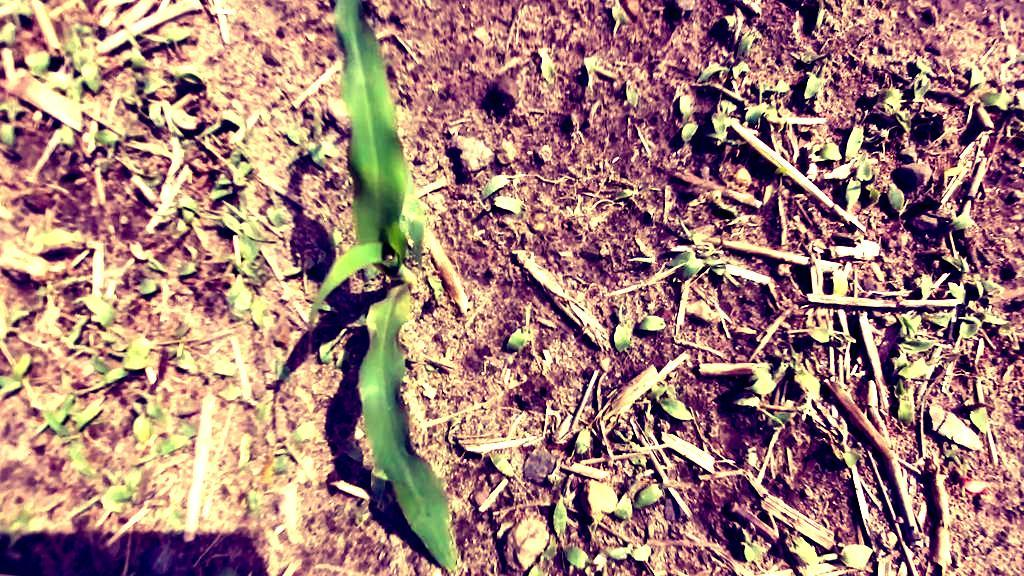BroWeed: (255, 181, 309, 253), (774, 343, 831, 407), (127, 421, 197, 473), (880, 309, 941, 367), (45, 14, 100, 77), (869, 78, 927, 135), (26, 391, 81, 448), (895, 339, 962, 384), (70, 286, 127, 336), (610, 462, 655, 525), (837, 150, 880, 215), (628, 472, 699, 511), (210, 99, 262, 152), (771, 523, 824, 574), (125, 374, 173, 430), (643, 381, 698, 429), (744, 355, 794, 405), (302, 220, 352, 269), (64, 483, 132, 519), (837, 106, 876, 167), (668, 246, 726, 287), (281, 239, 329, 288), (816, 537, 879, 574), (110, 142, 168, 182), (59, 307, 101, 362), (71, 362, 133, 399), (0, 509, 54, 551), (503, 299, 540, 358), (157, 247, 196, 302), (28, 394, 73, 441), (62, 431, 101, 484), (290, 450, 336, 494), (473, 166, 514, 213), (0, 90, 41, 136), (192, 200, 239, 240), (310, 320, 349, 368), (944, 451, 984, 497), (554, 526, 592, 574), (690, 49, 740, 85), (79, 330, 115, 378), (241, 280, 275, 330), (286, 142, 340, 173), (139, 22, 198, 50), (125, 392, 156, 445), (698, 121, 747, 154), (161, 118, 202, 157), (732, 526, 771, 567), (0, 503, 37, 546), (727, 389, 796, 412), (973, 305, 1018, 340), (949, 302, 987, 343), (163, 60, 208, 94), (65, 396, 105, 434), (45, 361, 82, 402), (76, 56, 112, 98), (875, 174, 911, 216), (610, 301, 638, 355), (34, 64, 78, 98), (905, 56, 941, 97), (230, 135, 262, 181), (729, 22, 764, 64), (138, 87, 171, 131), (60, 73, 96, 113), (704, 91, 734, 139), (39, 422, 81, 456), (651, 246, 697, 277), (757, 91, 789, 135), (85, 123, 123, 160), (158, 499, 196, 536), (19, 34, 52, 76), (204, 245, 250, 275), (590, 57, 628, 93), (206, 198, 248, 230), (122, 88, 159, 124), (154, 214, 192, 249), (961, 76, 999, 111), (805, 324, 858, 349), (149, 283, 189, 316), (963, 400, 993, 444), (274, 115, 314, 148), (167, 340, 204, 375), (284, 418, 322, 452), (162, 59, 204, 89), (7, 349, 40, 387), (119, 233, 158, 265), (164, 387, 203, 419), (487, 445, 519, 484), (891, 377, 915, 429), (238, 240, 264, 288), (120, 347, 163, 376), (535, 530, 562, 576), (705, 187, 745, 218), (764, 121, 792, 165), (123, 25, 149, 72), (485, 189, 527, 218), (129, 271, 169, 301), (941, 210, 981, 240), (746, 81, 771, 129), (723, 4, 749, 50), (347, 497, 381, 532), (556, 471, 587, 509), (981, 85, 1019, 116), (194, 110, 229, 143), (0, 186, 36, 218), (739, 96, 771, 132), (303, 289, 340, 320), (803, 55, 828, 100), (95, 323, 129, 356), (169, 102, 204, 134), (674, 212, 706, 247), (221, 272, 252, 307), (551, 490, 569, 550), (209, 468, 252, 493), (626, 237, 659, 269), (1, 302, 31, 337), (861, 120, 896, 150), (836, 447, 872, 476), (186, 350, 218, 382), (908, 72, 939, 105), (727, 163, 758, 196), (0, 0, 34, 30), (976, 268, 1006, 302), (123, 463, 147, 505), (106, 338, 159, 357), (534, 45, 559, 85), (337, 436, 370, 466), (711, 210, 765, 228), (155, 196, 201, 217), (935, 159, 967, 189), (801, 127, 829, 161), (674, 117, 702, 151), (426, 269, 451, 307), (108, 323, 145, 348), (789, 43, 826, 68), (683, 189, 716, 217), (601, 543, 652, 561), (165, 412, 200, 438), (133, 73, 174, 95), (862, 174, 884, 215), (212, 348, 241, 379), (234, 432, 256, 472), (174, 254, 209, 279), (606, 167, 637, 195), (823, 432, 848, 466), (32, 228, 85, 244), (612, 426, 641, 455), (79, 229, 109, 257), (546, 450, 566, 492), (204, 177, 235, 204), (270, 345, 292, 383), (223, 161, 251, 190), (266, 449, 296, 476), (143, 45, 169, 76), (51, 271, 91, 291), (888, 344, 908, 384), (807, 141, 843, 163), (962, 273, 990, 301), (920, 309, 954, 332), (937, 439, 967, 465), (640, 381, 670, 407), (158, 96, 179, 133), (619, 78, 644, 109), (443, 411, 465, 446), (753, 406, 786, 429), (233, 284, 259, 313), (491, 514, 516, 544), (572, 422, 594, 456), (939, 252, 973, 274), (308, 106, 328, 143), (234, 227, 257, 259), (899, 137, 926, 164), (233, 384, 259, 412), (346, 416, 371, 445), (312, 249, 335, 280), (758, 175, 781, 206), (130, 544, 152, 576), (74, 320, 100, 347), (718, 9, 744, 36), (66, 391, 91, 419), (757, 352, 786, 376), (315, 137, 344, 161), (132, 434, 162, 457), (152, 283, 170, 321), (152, 383, 172, 417), (217, 377, 244, 402), (672, 81, 699, 106), (946, 278, 969, 307), (91, 151, 117, 176), (33, 240, 83, 253), (628, 449, 653, 475), (819, 8, 845, 33), (153, 82, 180, 106), (144, 254, 171, 278), (98, 465, 126, 488), (635, 313, 667, 333), (410, 353, 439, 375), (583, 56, 599, 95), (736, 538, 759, 565), (57, 123, 77, 154), (180, 234, 201, 263), (767, 409, 796, 430), (676, 93, 695, 124), (225, 303, 253, 324), (253, 397, 274, 425), (198, 361, 222, 385), (729, 55, 753, 79), (272, 318, 292, 346), (114, 76, 138, 99), (33, 278, 57, 301), (839, 439, 867, 458), (212, 168, 235, 191), (250, 253, 273, 276), (978, 63, 1002, 85), (0, 376, 21, 401), (76, 32, 102, 52), (333, 344, 352, 371), (1, 15, 17, 47), (694, 245, 724, 262), (213, 558, 241, 576), (739, 445, 760, 469), (832, 269, 850, 297), (176, 311, 194, 338), (591, 549, 609, 576), (261, 447, 274, 484), (586, 518, 602, 548), (120, 126, 147, 143), (608, 187, 638, 202), (28, 108, 44, 136), (644, 198, 660, 226), (175, 205, 196, 226), (26, 295, 47, 316), (138, 36, 161, 55), (194, 216, 225, 230), (766, 79, 793, 95), (745, 367, 766, 387), (70, 20, 96, 36), (643, 404, 655, 438), (162, 341, 182, 361), (1, 546, 26, 562), (1002, 120, 1022, 140), (661, 378, 678, 401), (246, 486, 259, 516), (964, 479, 990, 494), (604, 556, 623, 576), (207, 133, 228, 151), (226, 149, 244, 169), (213, 125, 234, 142), (234, 496, 250, 518), (573, 195, 588, 218), (182, 292, 197, 314), (970, 64, 984, 87), (140, 174, 164, 187), (235, 160, 253, 177), (151, 416, 168, 434), (721, 99, 738, 116), (710, 262, 729, 277), (921, 273, 933, 296), (870, 159, 883, 180), (910, 312, 926, 329), (150, 344, 168, 359), (964, 298, 982, 313), (695, 239, 715, 252), (801, 314, 817, 330), (526, 562, 544, 576), (585, 563, 604, 576), (93, 54, 110, 68), (770, 166, 789, 178), (255, 267, 273, 279), (62, 418, 77, 432), (272, 523, 287, 537), (957, 273, 980, 282), (726, 519, 743, 531), (797, 401, 811, 413), (158, 214, 174, 224), (175, 294, 188, 306), (566, 449, 575, 466), (170, 320, 178, 338), (751, 173, 760, 189), (90, 311, 101, 323), (753, 367, 770, 374), (856, 149, 869, 158), (168, 298, 176, 307), (204, 136, 210, 146), (825, 136, 834, 142), (215, 184, 225, 189)
